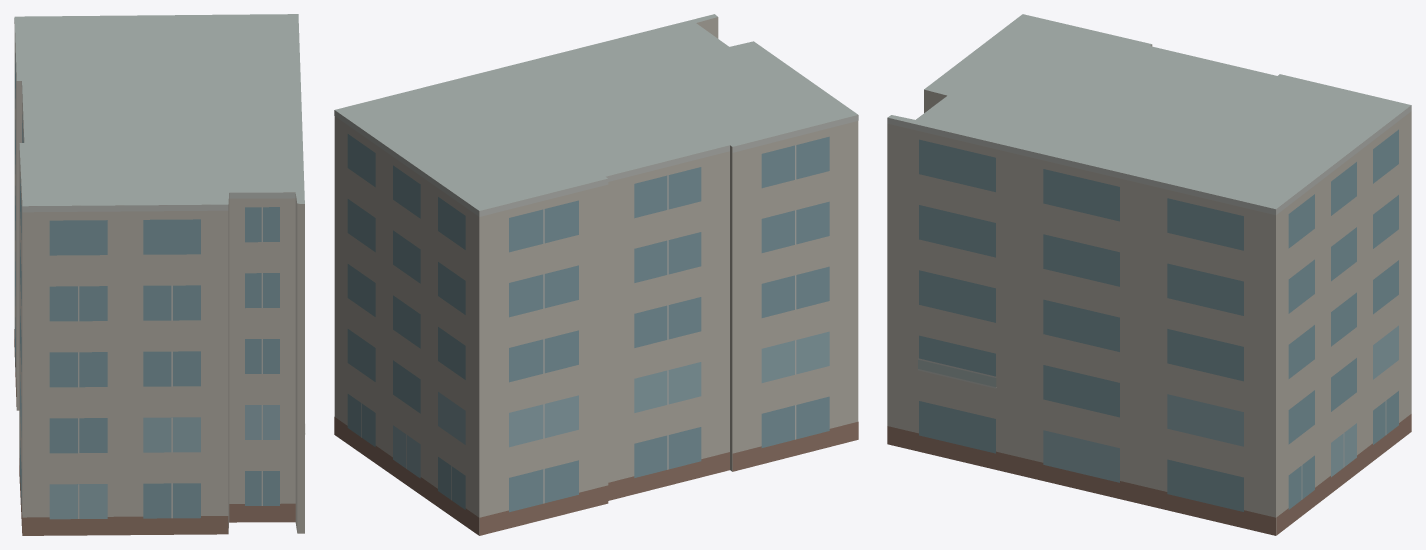
The model's file is survey-upis-32987491.glb.
The picture shows the model from 3 angles, left to right: view 1: azimuth 30°, elevation 25°; view 2: azimuth 150°, elevation 25°; view 3: azimuth 270°, elevation 25°; orthographic projection.
Parts seen in each view (by area): view 1: survey-upis-32987491.tmp; view 2: survey-upis-32987491.tmp; view 3: survey-upis-32987491.tmp.
Boxes of the visible parts, box(x1,y1,x2,y2) form: survey-upis-32987491.tmp: box(14, 14, 305, 535); survey-upis-32987491.tmp: box(334, 14, 858, 535); survey-upis-32987491.tmp: box(887, 14, 1411, 535).
Size of the model in its own units: 17 by 13.25 by 19.28.
